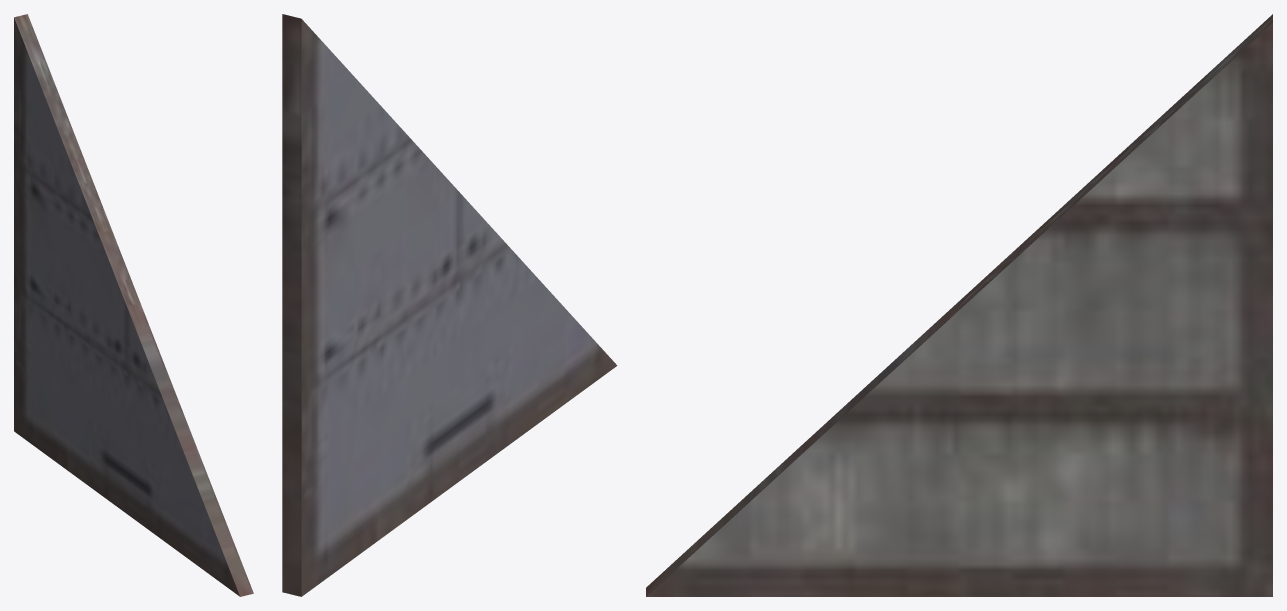
File: armored_roof_wall_left_textured.glb
3 renders of one model, left to right at view 1: azimuth 30°, elevation 25°; view 2: azimuth 150°, elevation 25°; view 3: azimuth 270°, elevation 25°, orthographic. The views are drawn at different scales.
Parts seen in each view (by area): view 1: Cube.003; view 2: Cube.003; view 3: Cube.003.
Part boxes in pixels (x1,y1,x2,y2): Cube.003: (14, 14, 253, 596); Cube.003: (282, 14, 617, 596); Cube.003: (646, 14, 1272, 596).
Size of the model in its own units: 0.0682 by 1.97 by 1.95.
Materials: 1 (1 with a texture image).
